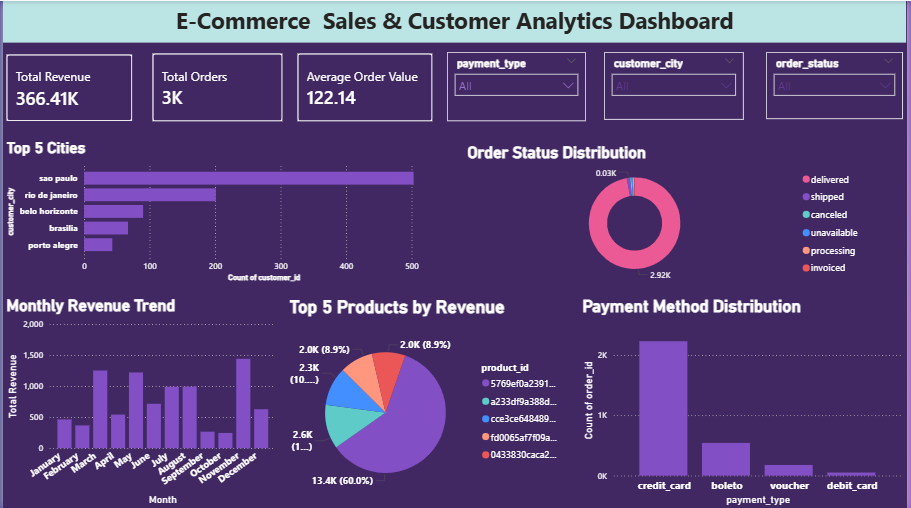

Layout of this report page (visuals, bound fields, positions):
{"tool":"powerbi","page":{"name":"Page 1","canvas":[1280,720],"ordinal":0},"visuals":[{"type":"textbox","box":[0,0,1280,58.8],"z":1000},{"type":"lineStackedColumnComboChart","title":"Payment Method Distribution","fields":{"Category":["payments_sample.payment_type"],"Y":["CountNonNull(payments_sample.order_id)"]},"box":[816.6,417.8,463.4,301.6],"z":2000},{"type":"clusteredBarChart","title":"Top 5 Cities ","fields":{"Y":["CountNonNull(customers_sample.customer_id)"],"Category":["customers_sample.customer_city"]},"box":[0,195.6,640.6,206.9],"z":3000},{"type":"pieChart","title":"Top 5 Products by Revenue","fields":{"Category":["items_sample.product_id"],"Y":["items_sample.Total Revenue"]},"box":[401.7,417.8,400.2,301.6],"z":4000},{"type":"slicer","fields":{"Values":["orders_sample.order_status"]},"box":[1081.1,72,194.2,95],"z":5000,"group":"g2"},{"type":"lineStackedColumnComboChart","title":" Monthly Revenue Trend","fields":{"Category":["orders_sample.order_purchase_timestamp.Variation.Date Hierarchy.Month"],"Y":["items_sample.Total Revenue"]},"box":[0,417.8,391.4,301.6],"z":5000},{"type":"slicer","fields":{"Values":["payments_sample.payment_type"]},"box":[629,72,197,97.8],"z":6000,"group":"g2"},{"type":"donutChart","title":"Order Status Distribution","fields":{"Category":["orders_sample.order_status"],"Y":["CountNonNull(orders_sample.order_id)"]},"box":[653.4,201.3,572.6,201.3],"z":6000},{"type":"group","id":"g1","title":"Group 1","box":[0,69.4,613.7,106.3],"z":7000},{"type":"slicer","fields":{"Values":["customers_sample.customer_city"]},"box":[851.5,72,198.4,96.4],"z":7000,"group":"g2"},{"type":"group","id":"g2","title":"Group 2","box":[629,72,646.3,97.8],"z":7500},{"type":"cardVisual","fields":{"Data":["orders_sample.Total Orders"]},"box":[206.9,69.4,194.2,106.3],"z":8000,"group":"g1"},{"type":"cardVisual","fields":{"Data":["items_sample.Total Revenue"]},"box":[0,70.8,188.5,104.9],"z":9000,"group":"g1"},{"type":"cardVisual","fields":{"Data":["orders_sample.Average Order Value"]},"box":[412.4,69.4,201.3,106.3],"z":11000,"group":"g1"}]}

Visuals, with their boxes in screenshot pixels (x1, y1, x2, y2), scaled from the page's 1280x720 canvas onto the 911x508 screenshot:
textbox: BBox(0, 0, 910, 41)
"Payment Method Distribution" lineStackedColumnComboChart: BBox(581, 295, 910, 507)
"Top 5 Cities " clusteredBarChart: BBox(0, 138, 456, 284)
"Top 5 Products by Revenue" pieChart: BBox(286, 295, 571, 507)
slicer - orders_sample.order_status: BBox(769, 51, 908, 118)
" Monthly Revenue Trend" lineStackedColumnComboChart: BBox(0, 295, 279, 507)
slicer - payments_sample.payment_type: BBox(448, 51, 588, 120)
"Order Status Distribution" donutChart: BBox(465, 142, 873, 284)
"Group 1" group: BBox(0, 49, 437, 124)
slicer - customers_sample.customer_city: BBox(606, 51, 747, 119)
"Group 2" group: BBox(448, 51, 908, 120)
cardVisual - orders_sample.Total Orders: BBox(147, 49, 285, 124)
cardVisual - items_sample.Total Revenue: BBox(0, 50, 134, 124)
cardVisual - orders_sample.Average Order Value: BBox(294, 49, 437, 124)
